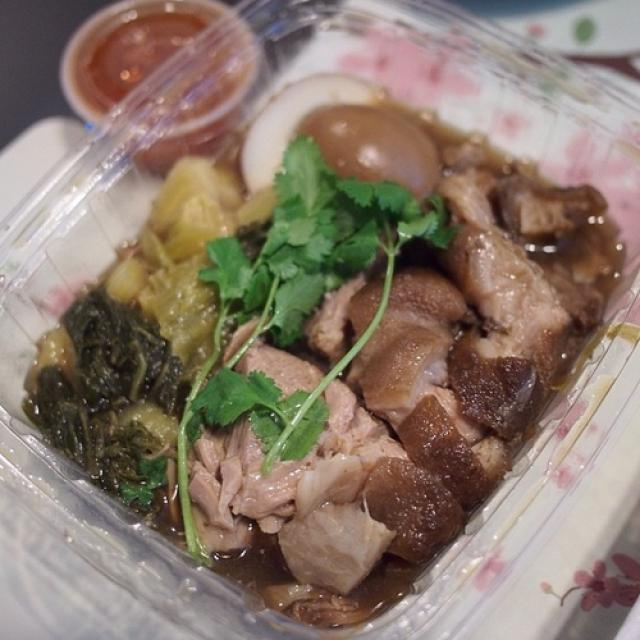猪肉菜式: (23, 55, 595, 599)
